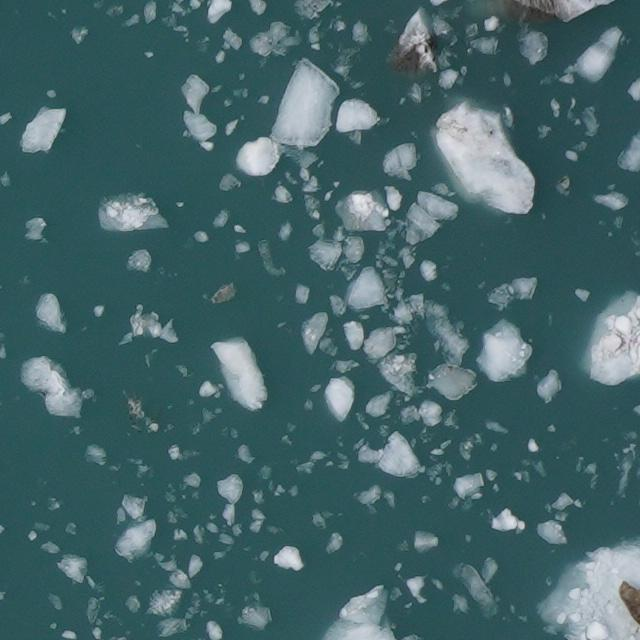seal: (619, 580, 639, 624)
